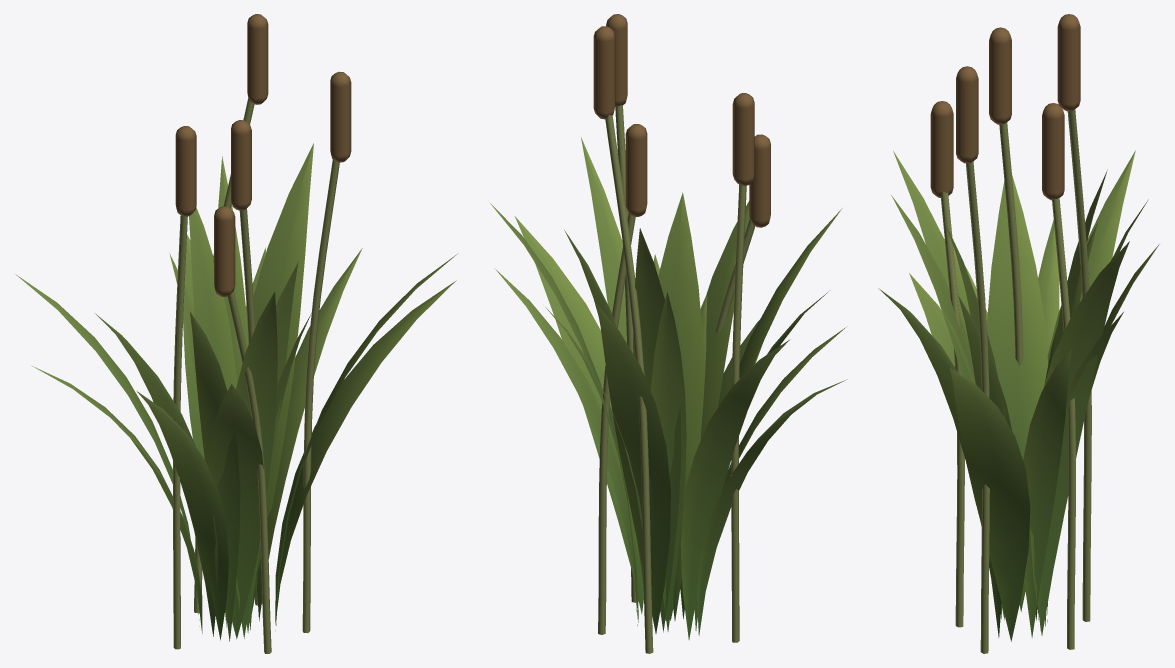
File: coastal-reeds.glb
3 renders of one model, left to right at view 1: azimuth 30°, elevation 25°; view 2: azimuth 150°, elevation 25°; view 3: azimuth 270°, elevation 25°, orthographic. The views are drawn at different scales.
Visible parts, largest first — view 1: painted-foliage; view 2: painted-foliage; view 3: painted-foliage.
Part boxes in pixels (x1,y1,x2,y2): painted-foliage: [15, 14, 458, 653]; painted-foliage: [490, 14, 847, 653]; painted-foliage: [878, 14, 1159, 653].
Bounding box in the file's own units: 1.31 × 1.96 × 0.7966.
